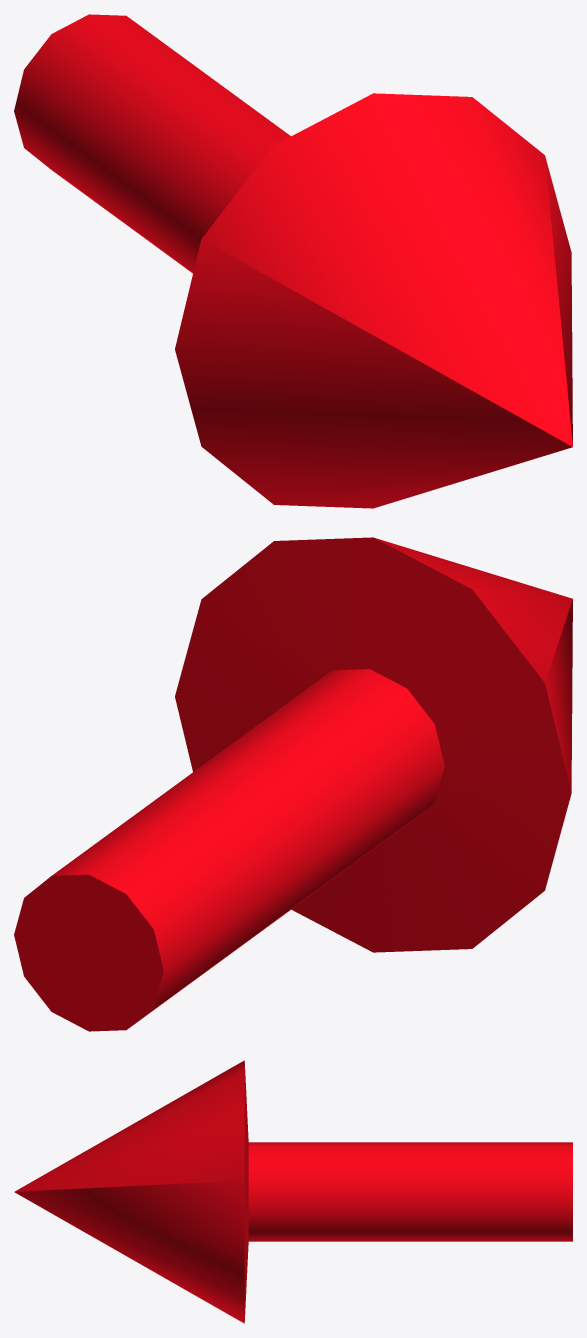
The model's file is arrow.fbx.
3 renders of one model, top to bottom at view 1: azimuth 30°, elevation 25°; view 2: azimuth 150°, elevation 25°; view 3: azimuth 270°, elevation 25°, orthographic. The views are drawn at different scales.
Parts seen in each view (by area): view 1: arrow; view 2: arrow; view 3: arrow.
Boxes of the visible parts, x1,y1,x2,y2 form: arrow: (14,14,572,508); arrow: (14,537,572,1031); arrow: (14,1060,572,1323).
Size of the model in its own units: 7.86 by 7.86 by 16.6.
Materials: 1 (1 with a texture image).
